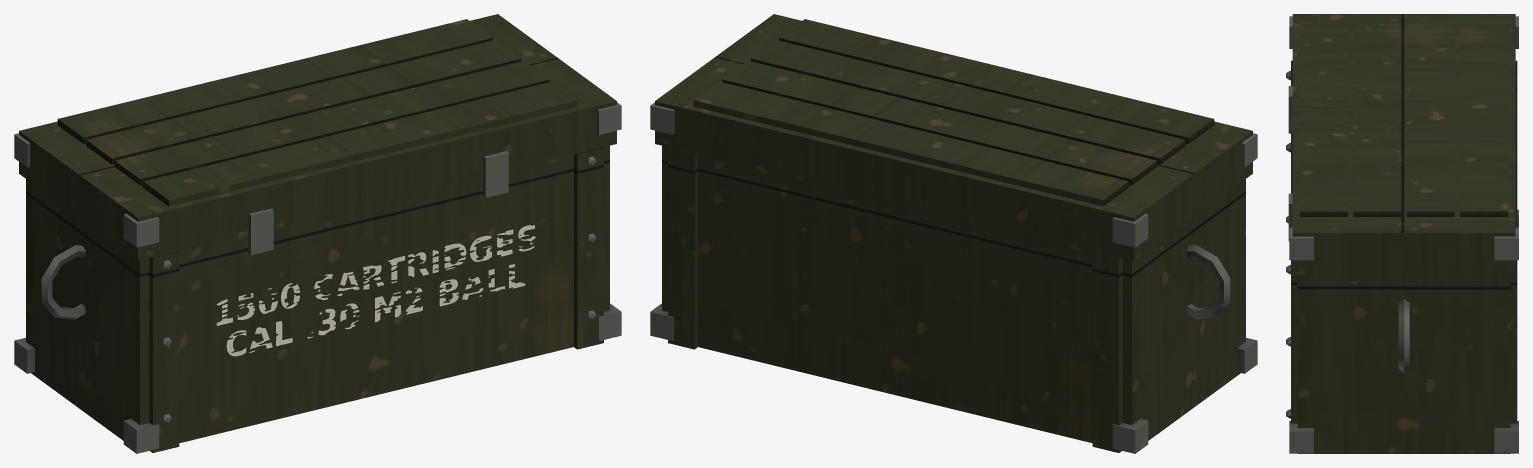
Rendered from ammo_crate.glb.
The picture shows the model from 3 angles, left to right: view 1: azimuth 30°, elevation 25°; view 2: azimuth 150°, elevation 25°; view 3: azimuth 270°, elevation 25°; orthographic projection. The views are drawn at different scales.
Parts seen in each view (by area): view 1: Ammo_Crate; view 2: Ammo_Crate; view 3: Ammo_Crate.
Part boxes in pixels (<box>): Ammo_Crate: <box>14,14,621,453</box>; Ammo_Crate: <box>650,14,1257,453</box>; Ammo_Crate: <box>1286,14,1518,453</box>.
Size of the model in its own units: 0.7294 by 0.308 by 0.2841.
3 materials, 2 textured.
